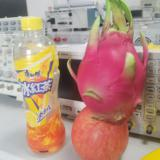apple: (72, 106, 128, 160)
pitaya: (76, 4, 150, 113)
